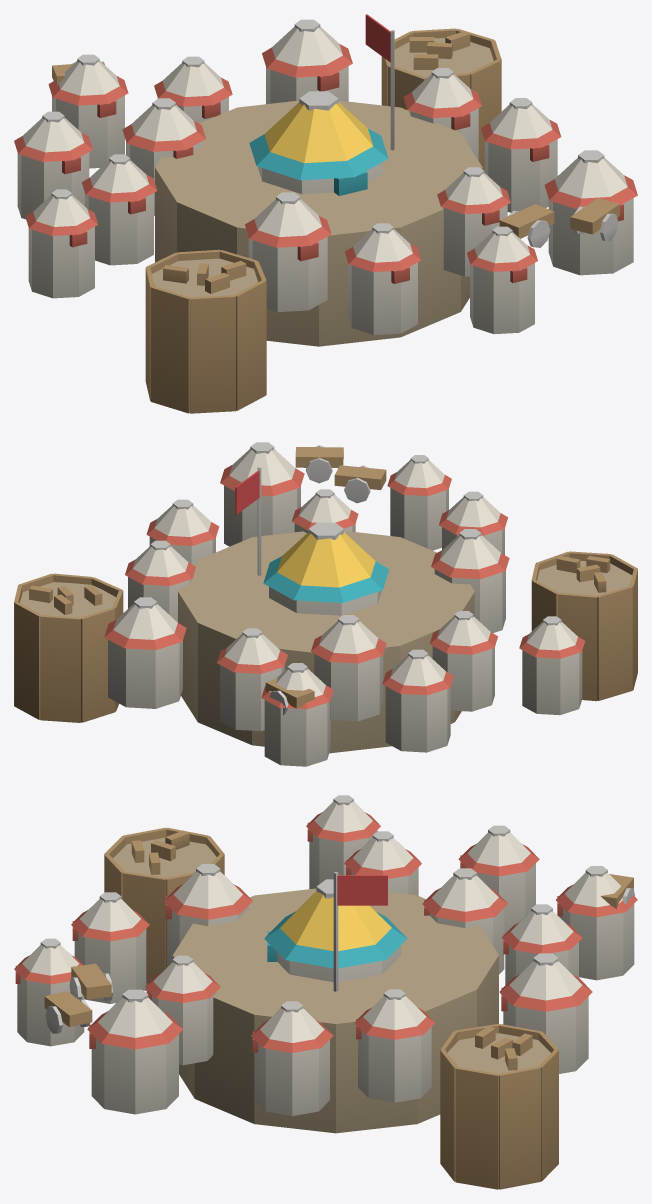
File: town_steppe_b.glb
3 views of the same model, one above another, from view 1: azimuth 30°, elevation 25°; view 2: azimuth 150°, elevation 25°; view 3: azimuth 270°, elevation 25° (orthographic). The views are drawn at different scales.
Visible parts, largest first — view 1: town_steppe_b; view 2: town_steppe_b; view 3: town_steppe_b.
Boxes of the visible parts, left/top/right/bottom form: town_steppe_b: left=14, top=14, right=637, bottom=413; town_steppe_b: left=14, top=442, right=637, bottom=766; town_steppe_b: left=14, top=795, right=637, bottom=1189.
Bounding box in the file's own units: 1.92 × 0.77 × 1.91.
